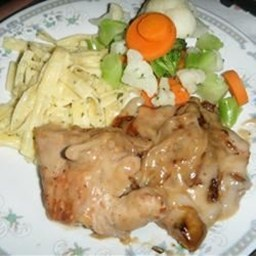background: (0, 0, 101, 101)
